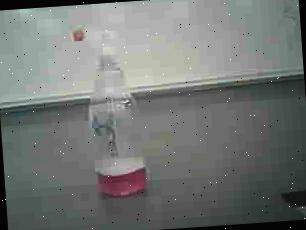hazard: (63, 16, 164, 208)
